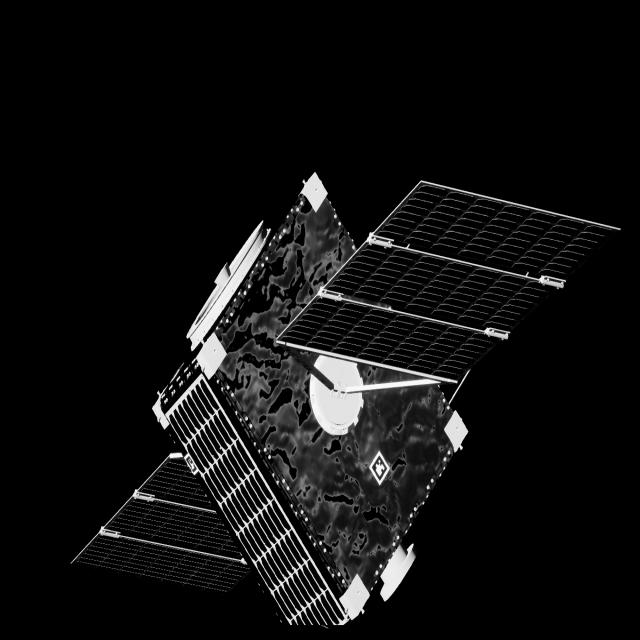satellite: (70, 175, 622, 629)
